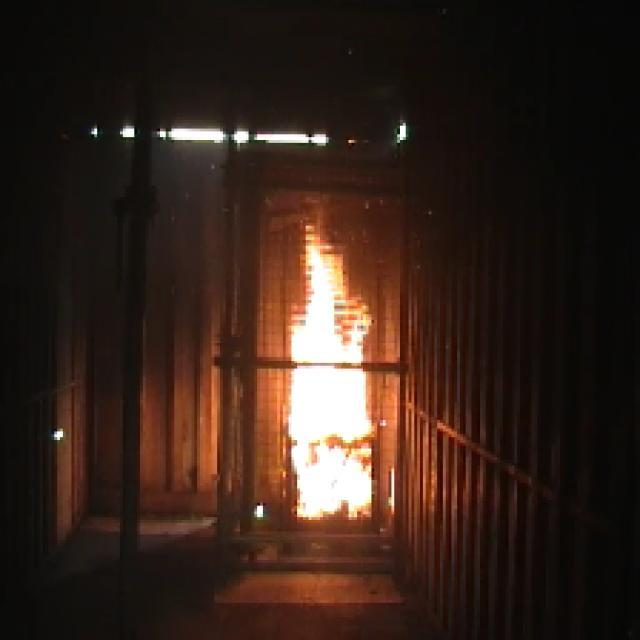Fire: (286, 213, 384, 521)
